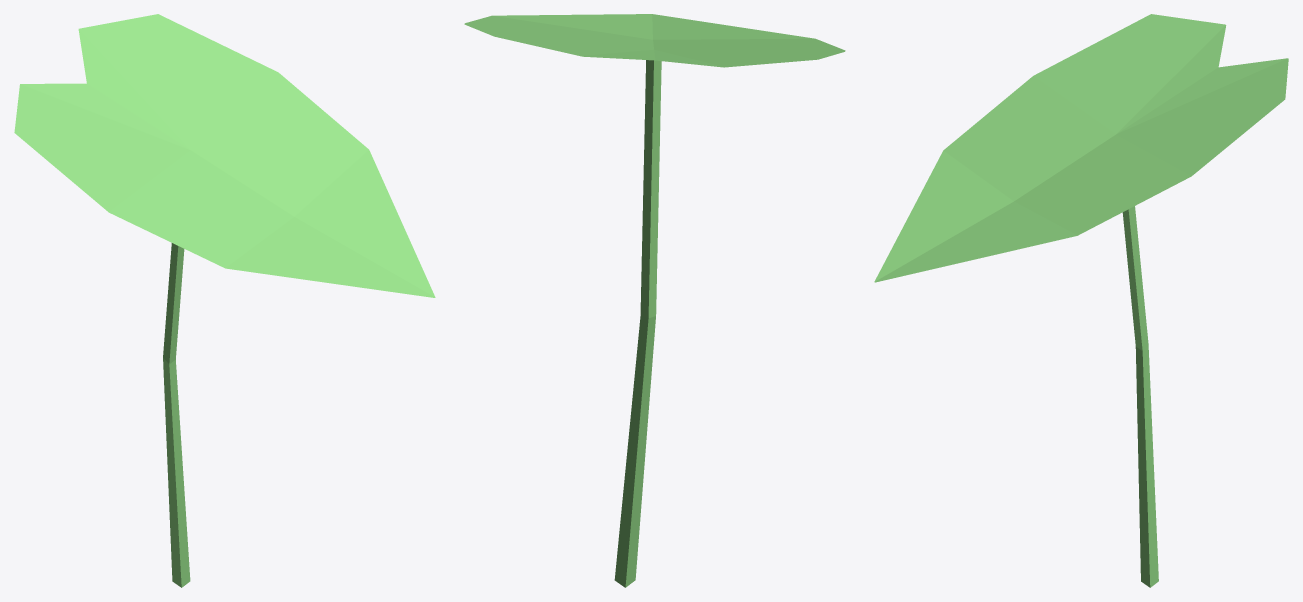
The model's file is Plant_d_TwoS_03.fbx.
The picture shows the model from 3 angles, left to right: view 1: azimuth 30°, elevation 25°; view 2: azimuth 150°, elevation 25°; view 3: azimuth 270°, elevation 25°; orthographic projection. The views are drawn at different scales.
Parts seen in each view (by area): view 1: Plant_d_TwoS_03; view 2: Plant_d_TwoS_03; view 3: Plant_d_TwoS_03.
Part boxes in pixels (box(x1,y1,x2,y2)): Plant_d_TwoS_03: box(14, 14, 435, 587); Plant_d_TwoS_03: box(464, 14, 845, 587); Plant_d_TwoS_03: box(874, 14, 1288, 587).
Size of the model in its own units: 47.33 by 72.94 by 53.8.
